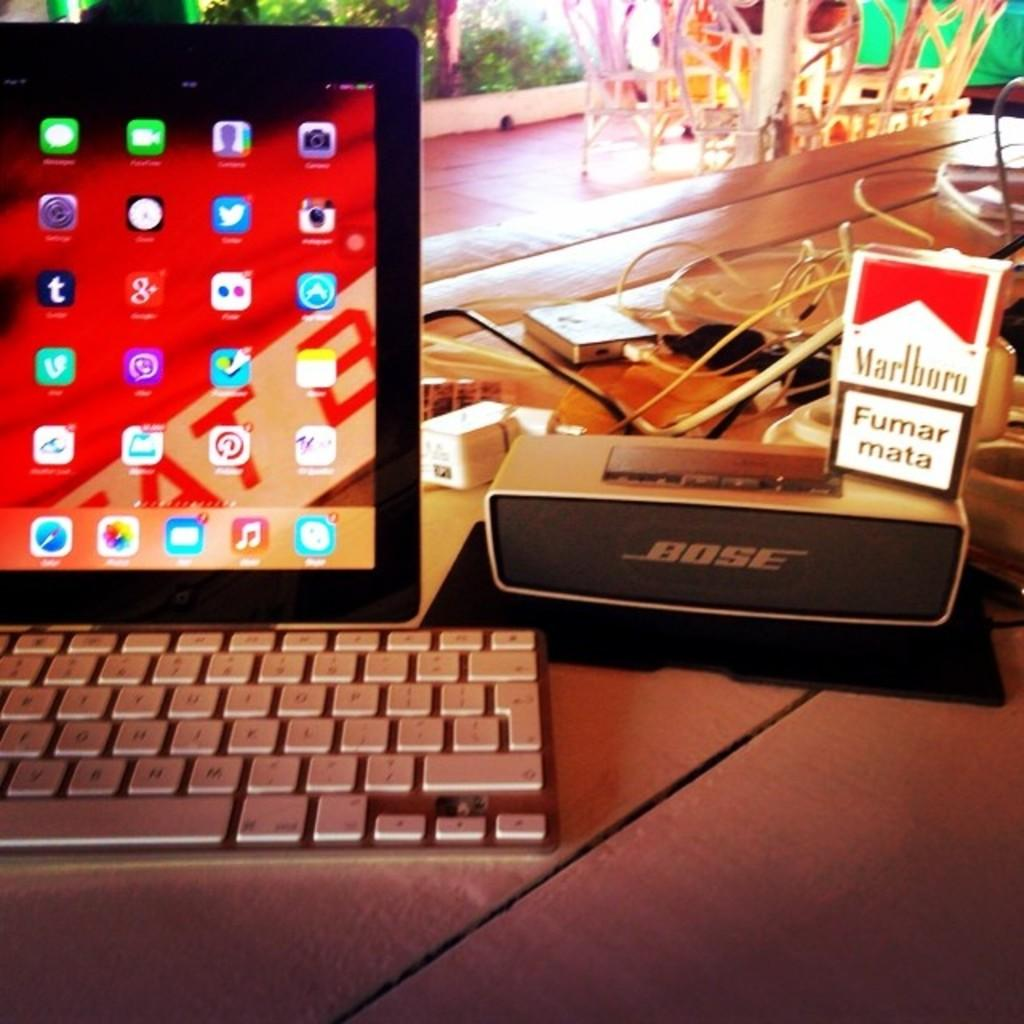Computer-keyboard: (0, 621, 568, 859)
